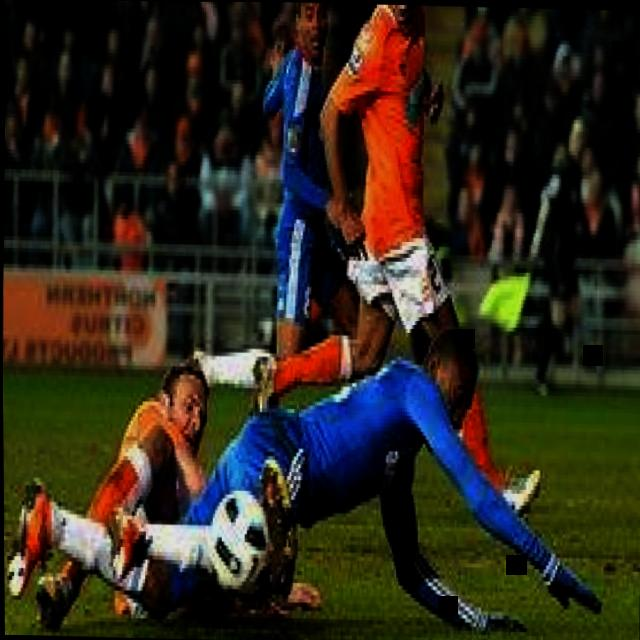Fall-Detected: (12, 335, 263, 629)
